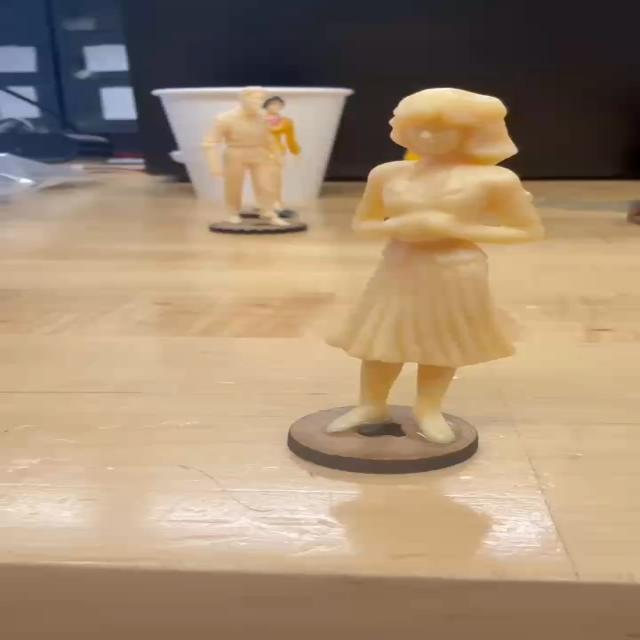Unauthorized: (324, 78, 546, 462)
